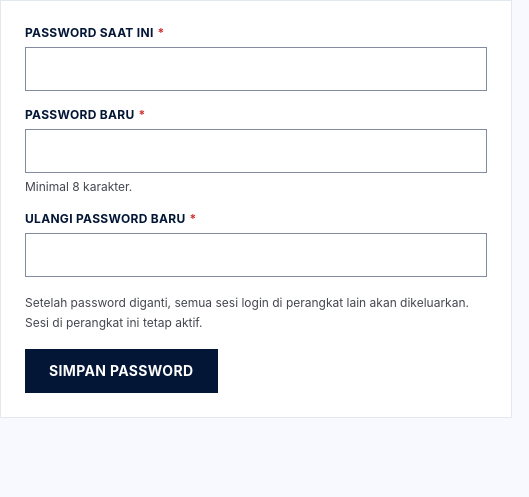
ChangePasswordForm › blocks submit when confirmation does not match
Type "passwordlama" into the password field labelled "Password Saat Ini*" at (256, 69), box [25,47,487,91]
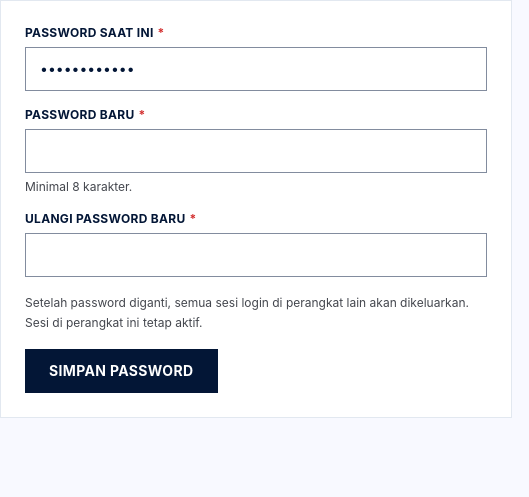
Type "passwordbaru123" into the password field labelled "Password Baru*" at (256, 151), box [25,129,487,173]
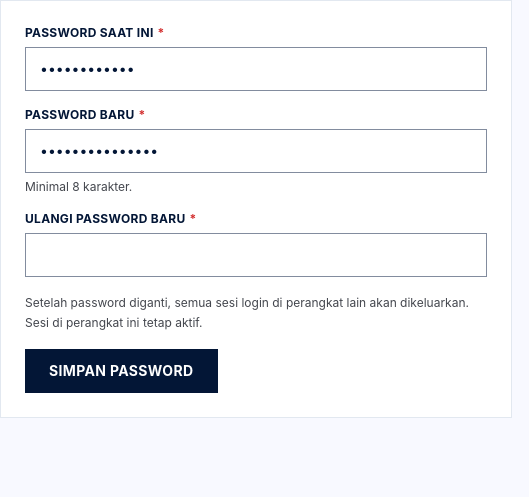
Type "berbeda123" into the password field labelled "Ulangi Password Baru*" at (256, 255), box [25,233,487,277]
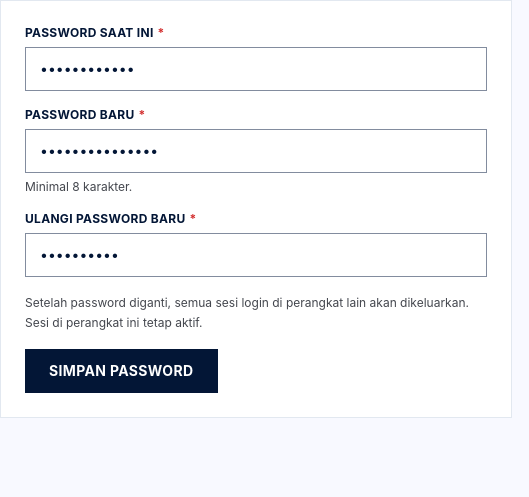
Click the button "Simpan Password" at (121, 371), box [25,349,218,393]
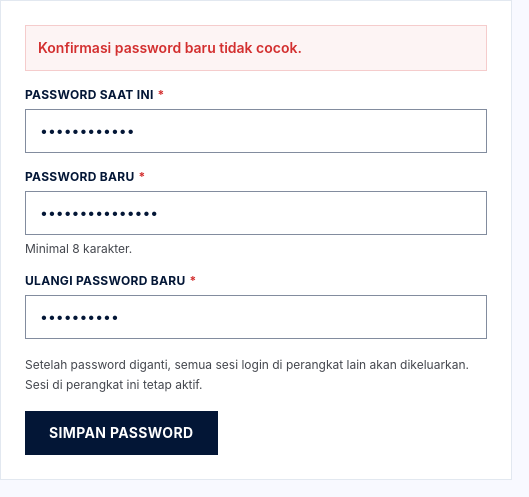
Expected: the text "Konfirmasi password baru tidak cocok." is shown, [25,25,487,71]
